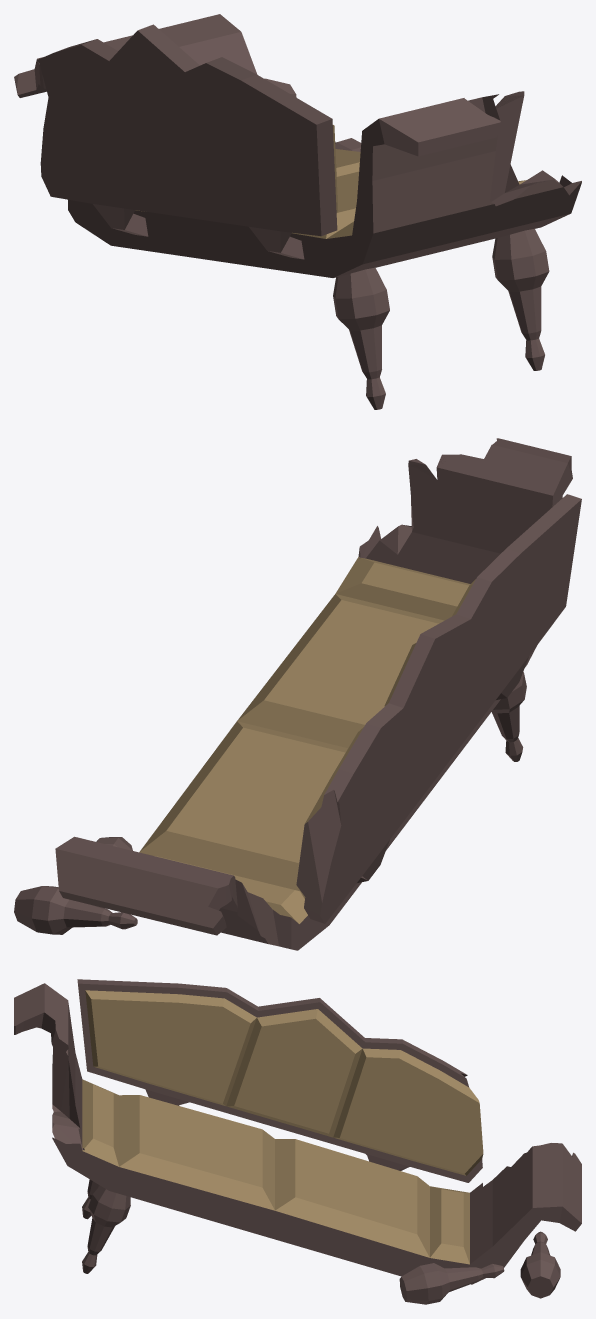
The model's file is Sofa.fbx.
The picture shows the model from 3 angles, top to bottom: view 1: azimuth 30°, elevation 25°; view 2: azimuth 150°, elevation 25°; view 3: azimuth 270°, elevation 25°; orthographic projection. The views are drawn at different scales.
Visible parts, largest first — view 1: Sofa; view 2: Sofa; view 3: Sofa.
Boxes of the visible parts, x1,y1,x2,y2 form: Sofa: (14,14,581,409); Sofa: (14,438,581,950); Sofa: (14,979,581,1304).
Bounding box in the file's own units: 1011 × 462 × 455.
